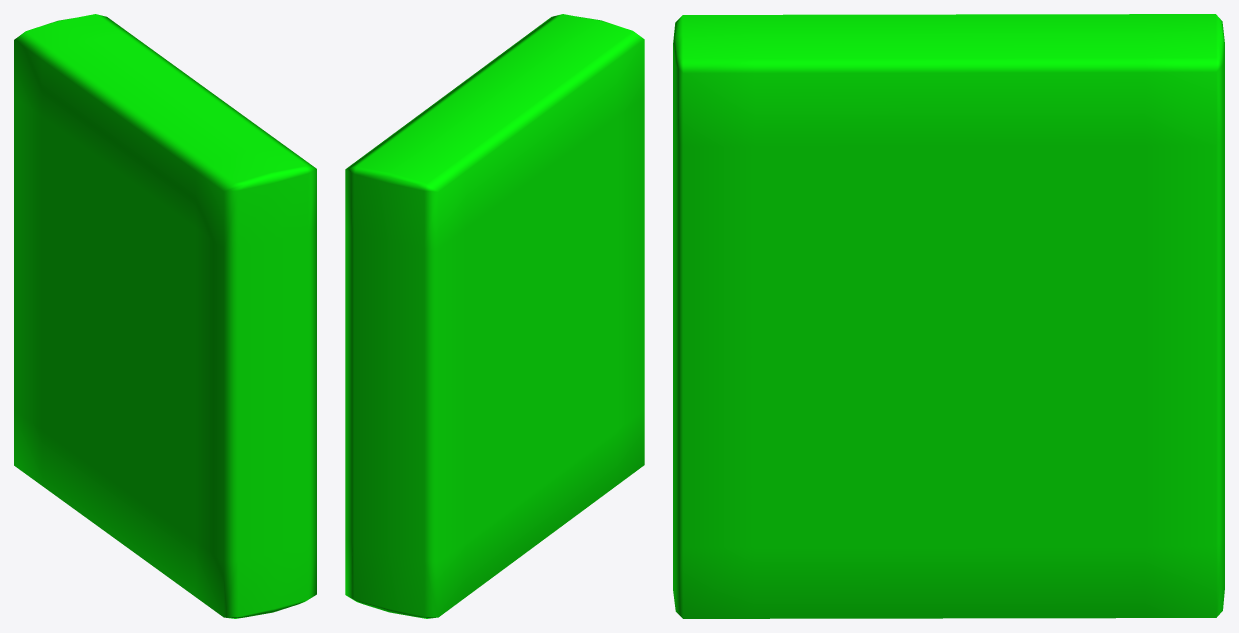
The model's file is pared.fbx.
3 renders of one model, left to right at view 1: azimuth 30°, elevation 25°; view 2: azimuth 150°, elevation 25°; view 3: azimuth 270°, elevation 25°, orthographic. The views are drawn at different scales.
Parts seen in each view (by area): view 1: polySurface4; view 2: polySurface4; view 3: polySurface4.
Boxes of the visible parts, x1,y1,x2,y2 form: polySurface4: (14, 14, 316, 618); polySurface4: (345, 14, 644, 618); polySurface4: (673, 14, 1224, 618).
Size of the model in its own units: 1.02 by 4.5 by 4.
